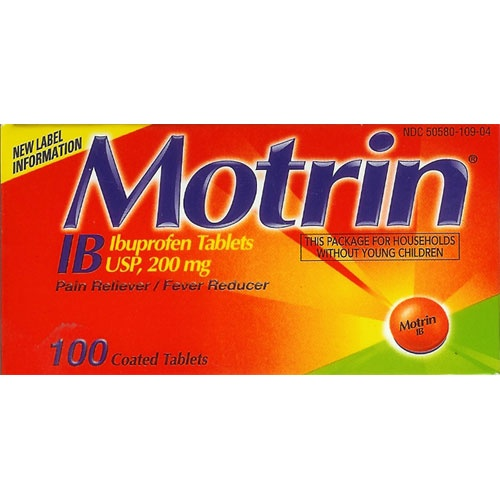grozi_18: (0, 124, 500, 374)
